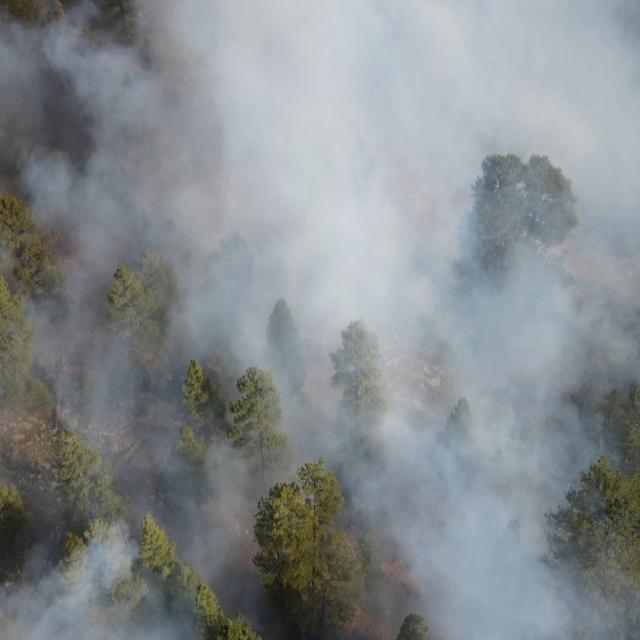fire: (132, 345, 162, 365), (210, 425, 220, 443), (122, 344, 132, 360), (164, 370, 173, 384)
smoke: (0, 1, 640, 452), (348, 452, 616, 640), (0, 451, 249, 640), (250, 451, 348, 518), (616, 571, 640, 640), (616, 453, 640, 479)
